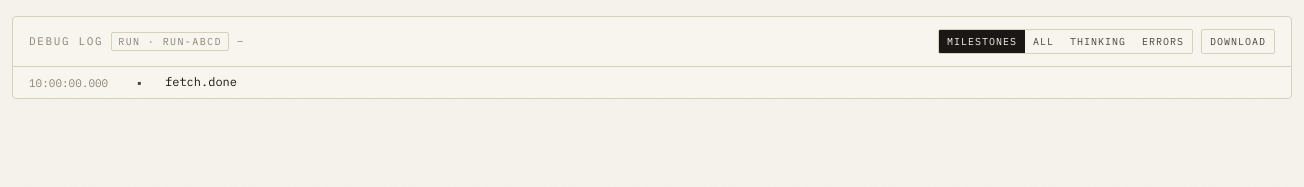
Scenario: DebugLogPanel › expands a row with a non-trivial payload to reveal pretty-printed JSON
The image size is (1304, 187).
Expected: the text "https://x.test" is not shown
Click the button "10:00:00.000 ▪ fetch.done". click: (69, 83)
box: x1=13 y1=67 x2=1291 y2=98
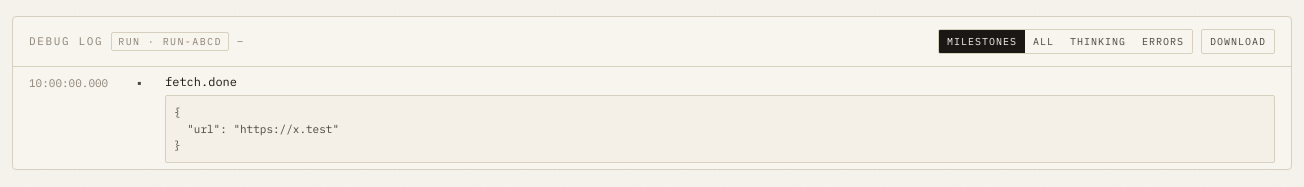
Result: the text "{ \"url\": \"https://x.test\" }" is shown at x1=165 y1=95 x2=1275 y2=162
